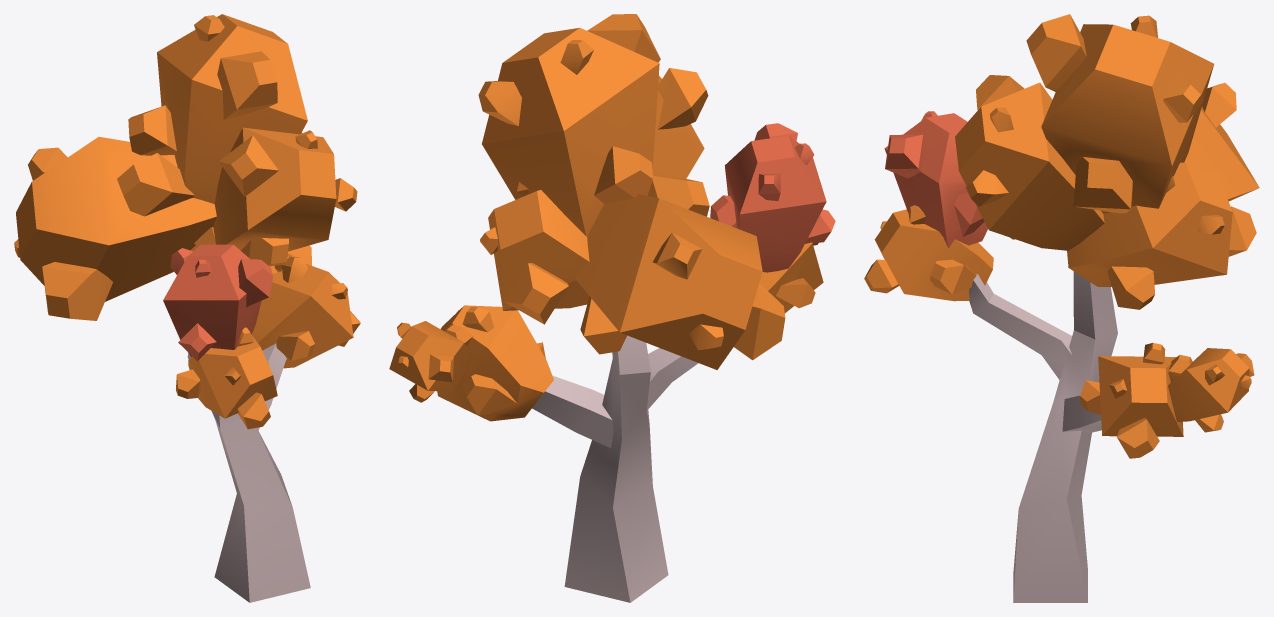
The model's file is FallTree2.fbx.
3 views of the same model, side by side, from view 1: azimuth 30°, elevation 25°; view 2: azimuth 150°, elevation 25°; view 3: azimuth 270°, elevation 25° (orthographic). The views are drawn at different scales.
Parts seen in each view (by area): view 1: Tree; view 2: Tree; view 3: Tree.
Part boxes in pixels (left/top/right/bottom): Tree: left=14, top=14, right=360, bottom=602; Tree: left=389, top=14, right=835, bottom=602; Tree: left=864, top=14, right=1259, bottom=602.
Bounding box in the file's own units: 228 × 361 × 229.
